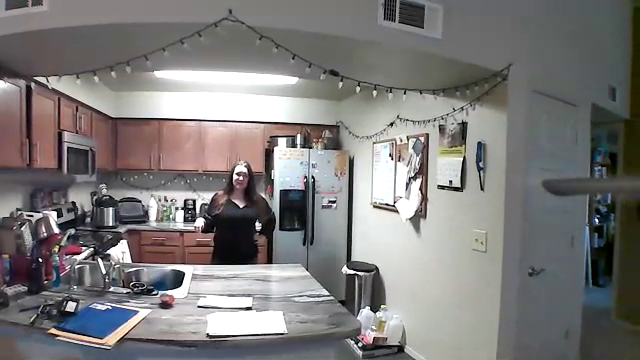down: (189, 212, 208, 243)
